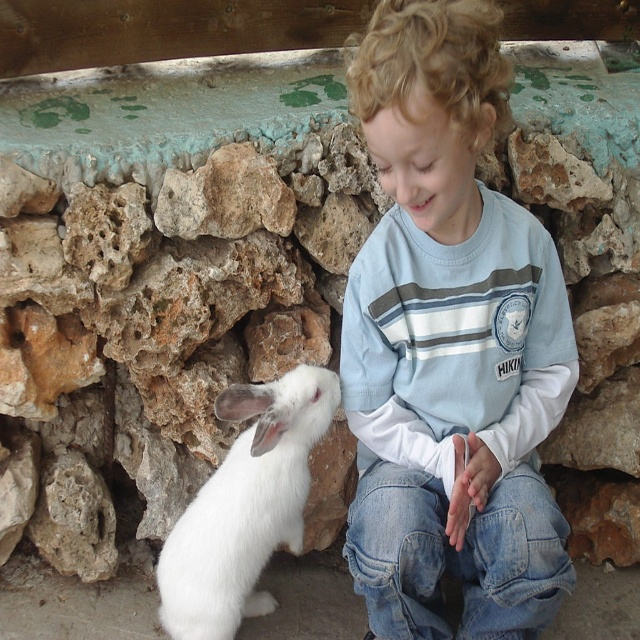Rabbit: (153, 357, 344, 639)
